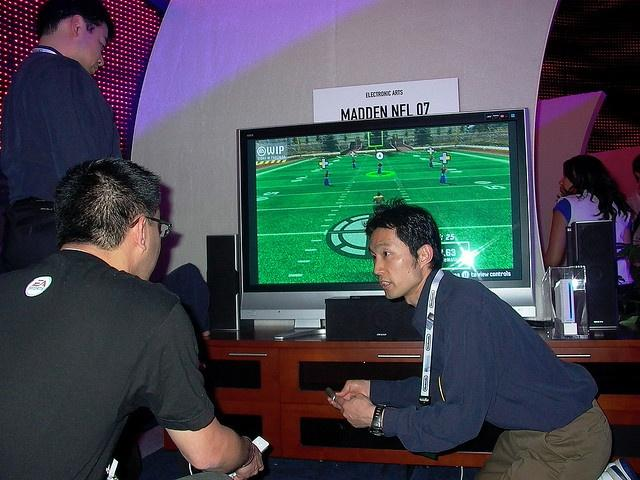AIO PC-Monitor-TV: (233, 106, 538, 338)
